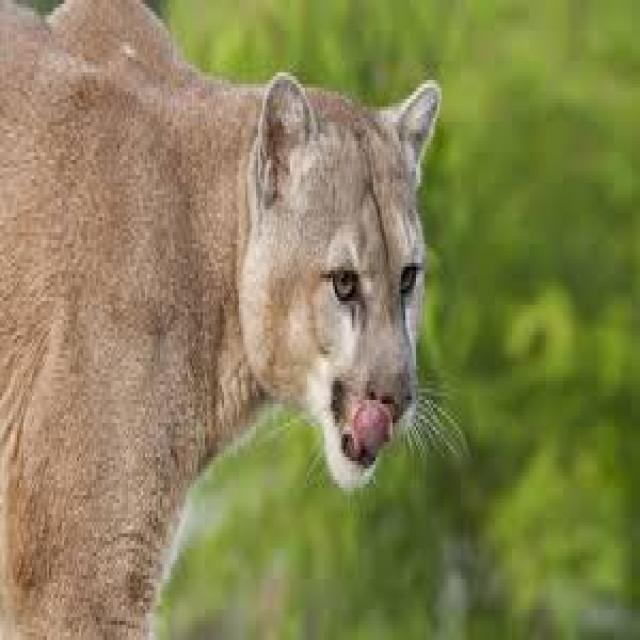Lion: (6, 10, 446, 636)
